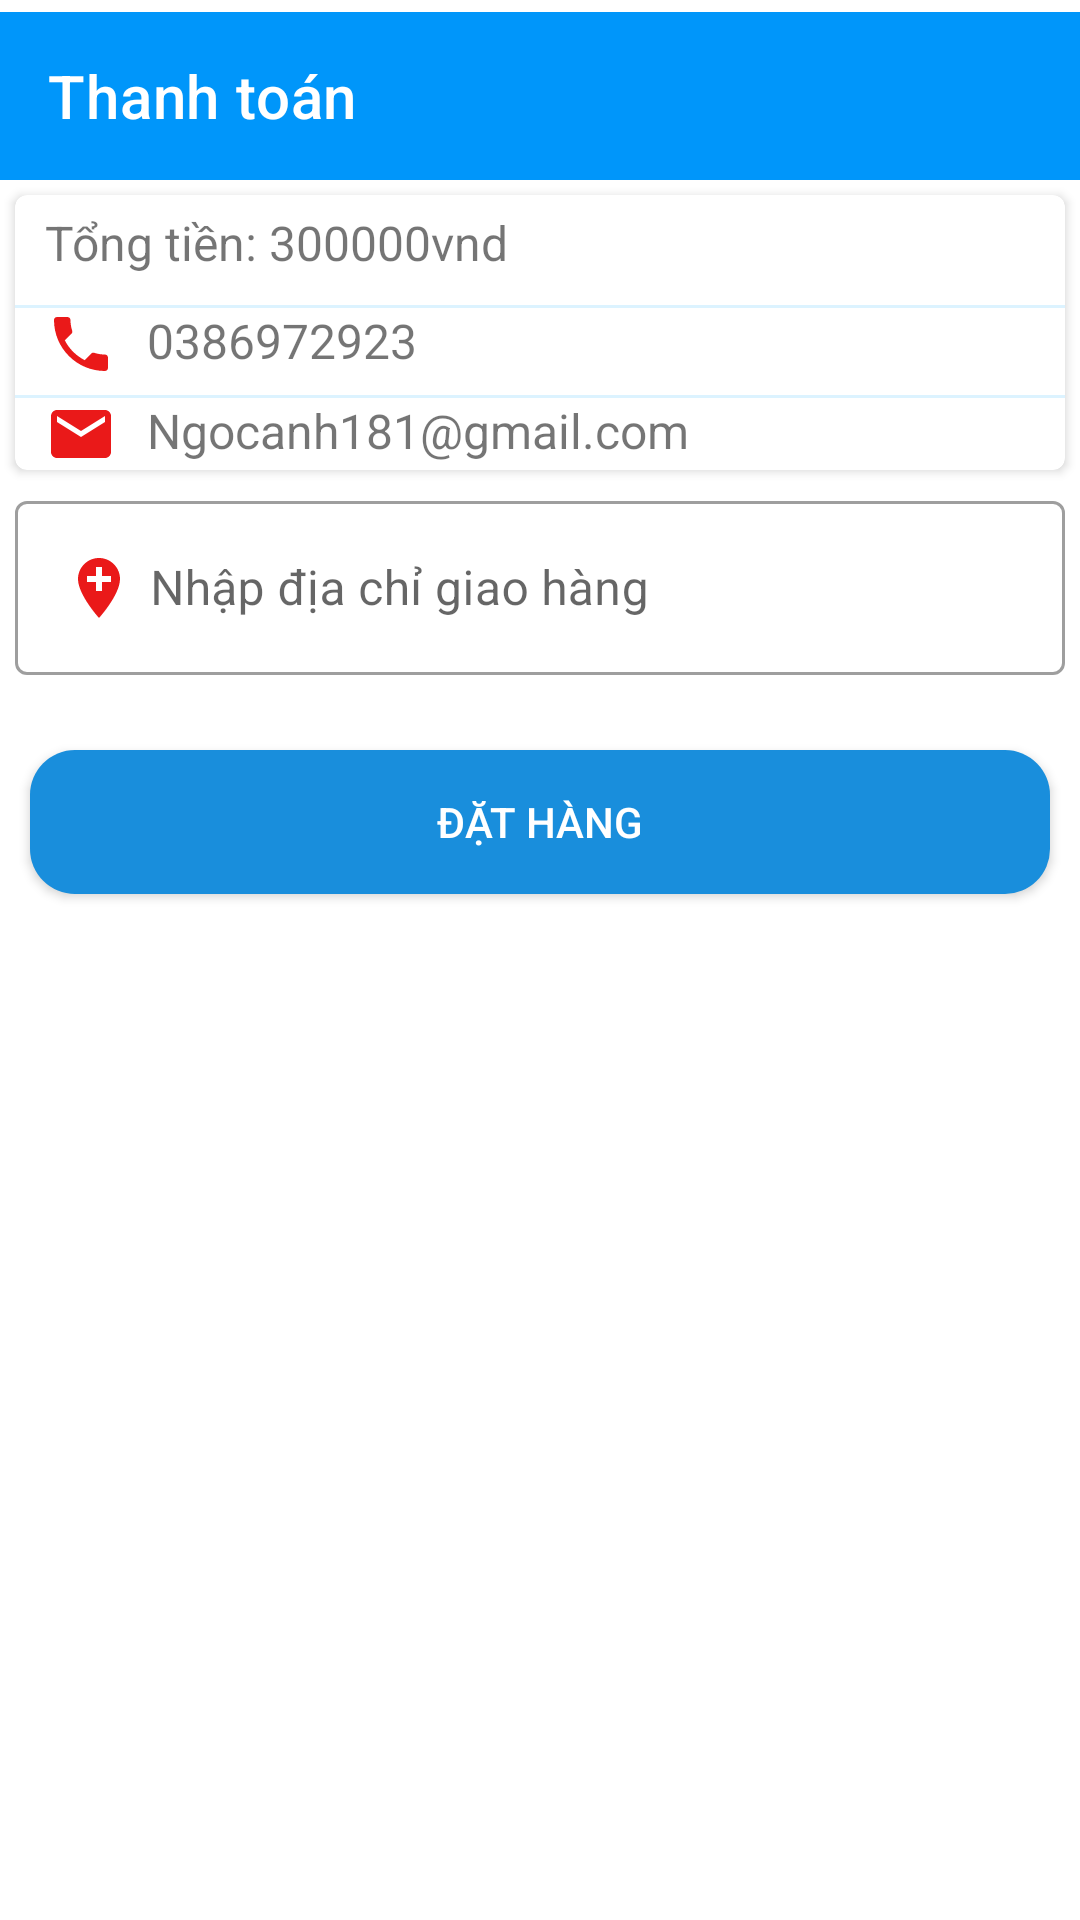

Where icons sit on this 1080px×1920px app screen, as (x1, y1, x2, y2):
email: (51, 410, 111, 458)
phone: (54, 317, 108, 371)
